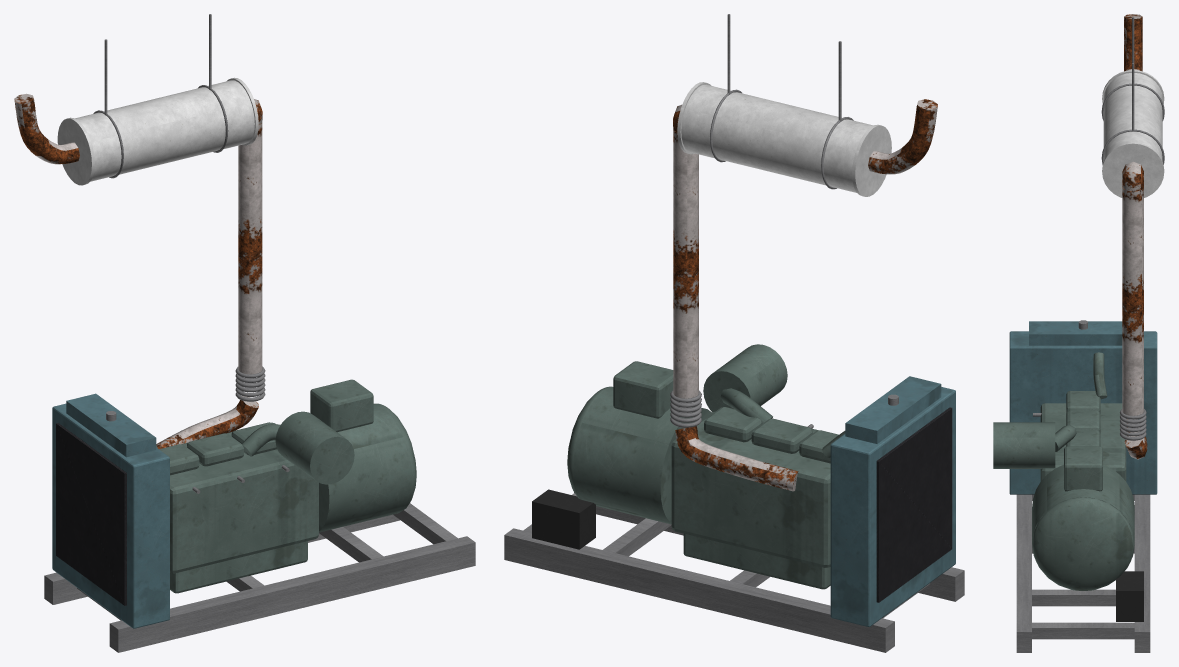
Rendered from B11_Diesel_Generator.fbx.
The picture shows the model from 3 angles, left to right: view 1: azimuth 30°, elevation 25°; view 2: azimuth 150°, elevation 25°; view 3: azimuth 270°, elevation 25°; orthographic projection. The views are drawn at different scales.
Visible parts, largest first — view 1: Engine_Block, Skid_Rail, Silencer, Radiator_Housing, Radiator_Core, Alternator, Exhaust_Pipe, Air_Filter, Oil_Pan, Radiator_Top_Tank, Alternator_TermBox, Silencer_Outlet (+8 smaller); view 2: Engine_Block, Skid_Rail.001, Silencer, Radiator_Housing, Radiator_Core, Alternator, Exhaust_Pipe, Air_Filter, Oil_Pan, Radiator_Top_Tank, Start_Battery, Exhaust_Manifold (+10 smaller); view 3: Radiator_Housing, Alternator_EndBell, Exhaust_Pipe, Silencer, Air_Filter, Alternator, Skid_Rail, Engine_Block, Radiator_Top_Tank, Skid_Rail.001, Silencer_Cap.001, Skid_Cross.003 (+13 smaller).
Boxes of the visible parts, x1,y1,x2,y2 form: Engine_Block: (170, 422, 318, 573); Skid_Rail: (109, 536, 475, 652); Silencer: (75, 80, 254, 181); Radiator_Housing: (52, 403, 169, 628); Radiator_Core: (56, 423, 126, 605); Alternator: (319, 404, 411, 532); Exhaust_Pipe: (238, 123, 262, 374); Air_Filter: (275, 411, 354, 484); Oil_Pan: (170, 541, 307, 593); Radiator_Top_Tank: (66, 393, 156, 457); Alternator_TermBox: (310, 379, 373, 432); Silencer_Outlet: (14, 93, 79, 164); Engine_Block: (671, 411, 830, 567); Skid_Rail.001: (504, 528, 894, 652); Silencer: (681, 84, 873, 192); Radiator_Housing: (830, 387, 955, 626); Radiator_Core: (876, 407, 952, 602); Alternator: (573, 387, 711, 524); Exhaust_Pipe: (673, 130, 698, 398); Air_Filter: (703, 344, 787, 412); Oil_Pan: (683, 533, 830, 589); Radiator_Top_Tank: (845, 376, 941, 443); Start_Battery: (532, 489, 595, 549); Exhaust_Manifold: (675, 426, 798, 491); Radiator_Housing: (1009, 331, 1157, 494); Alternator_EndBell: (1032, 497, 1134, 590); Exhaust_Pipe: (1122, 187, 1143, 415); Silencer: (1103, 73, 1162, 161); Air_Filter: (993, 422, 1055, 468); Alternator: (1032, 464, 1134, 563); Skid_Rail: (1016, 494, 1031, 652); Engine_Block: (1040, 403, 1126, 481); Radiator_Top_Tank: (1029, 321, 1122, 345); Skid_Rail.001: (1134, 494, 1150, 652); Silencer_Cap.001: (1102, 142, 1164, 197); Skid_Cross.003: (1032, 622, 1134, 639).
Size of the model in its own units: 2.66 by 3.55 by 1.1.
Materials: 7 (7 with a texture image).
